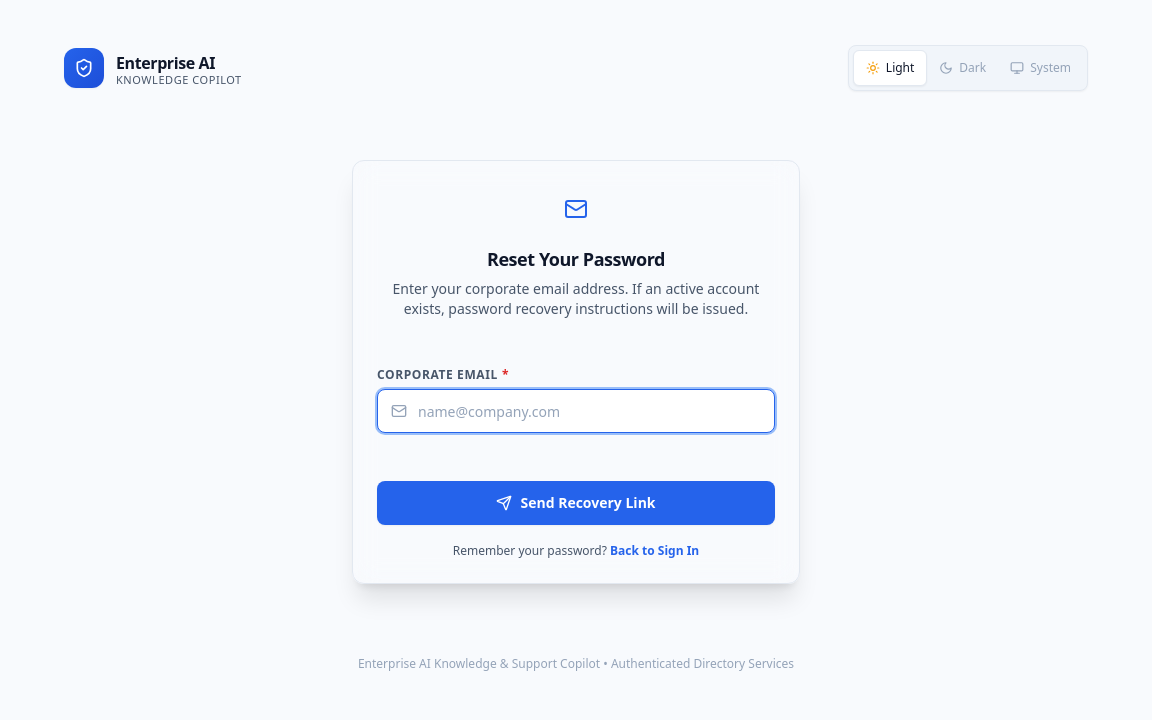
Test: ForgotPasswordPage Integration Tests › 4. Displays connection error toast when a network error occurs
This screenshot has width=1152, height=720.
Type "employee@enterprise.com" into the field labelled "Corporate Email*" at (576, 411), box 377,389 -> 775,433
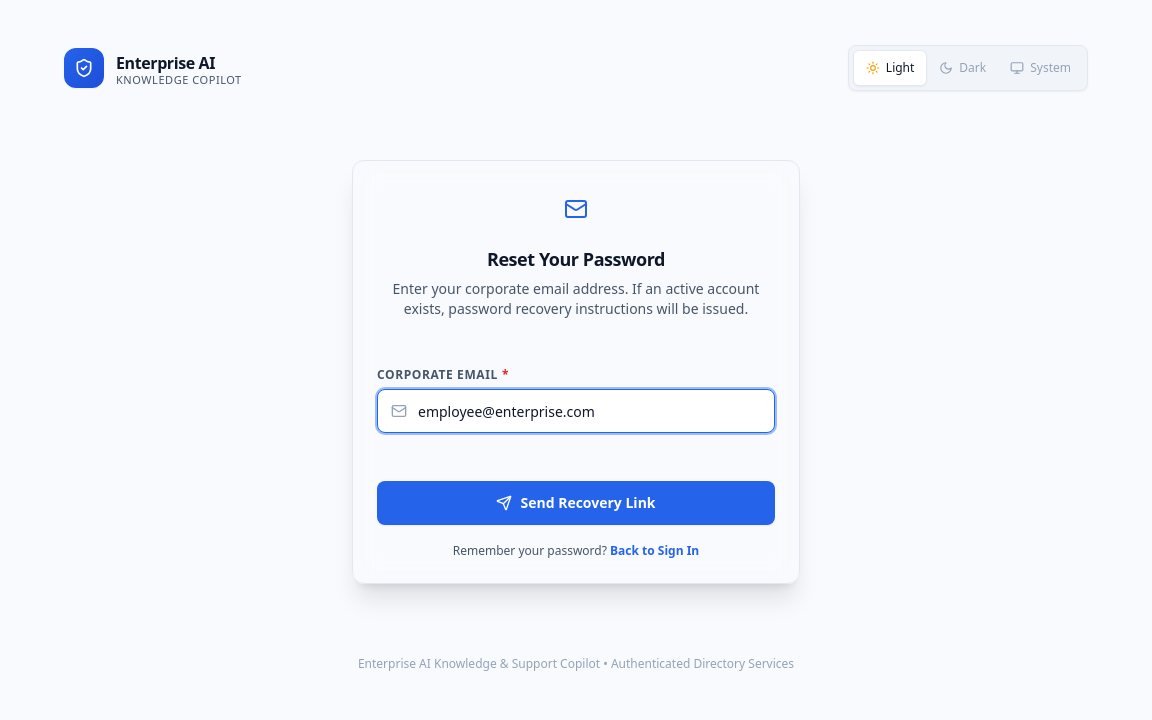
Click the button "Send Recovery Link" at (576, 503), box 377,481 -> 775,525
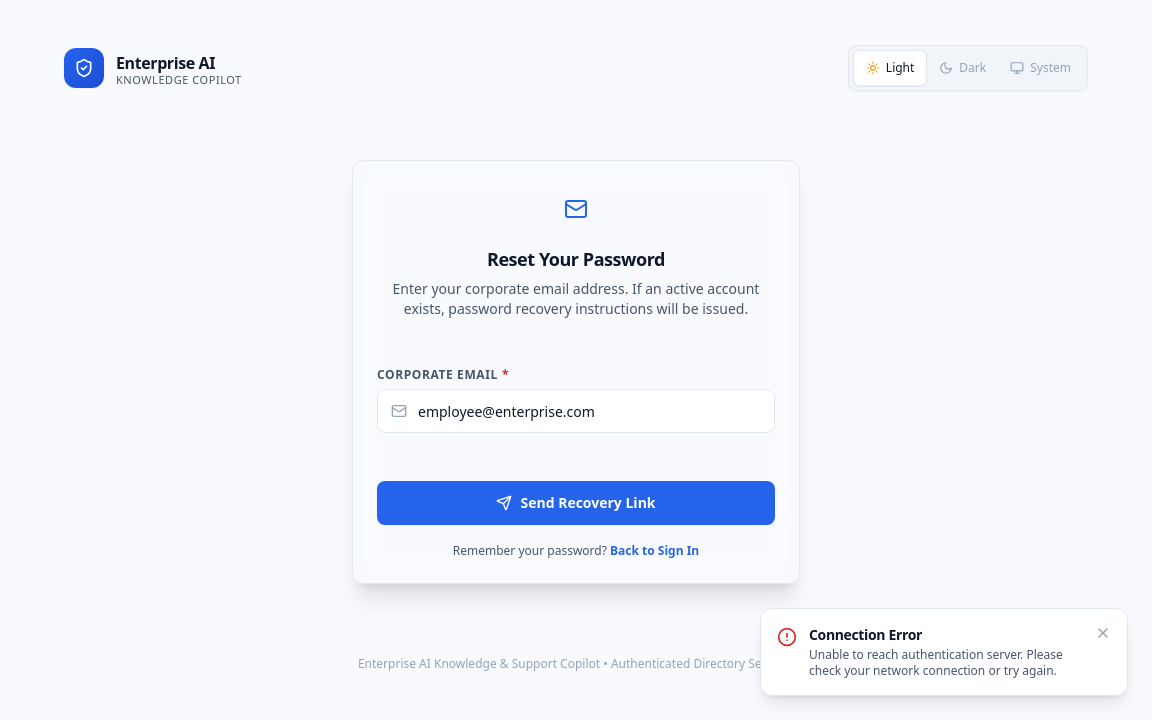
Check: the text "Unable to reach authentication server" is shown, box 809,646 -> 1063,679
